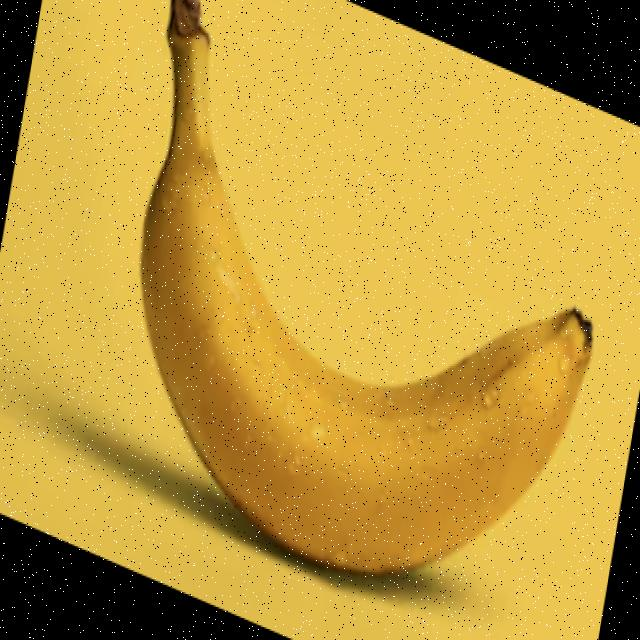god quality banana: (141, 0, 592, 573)
